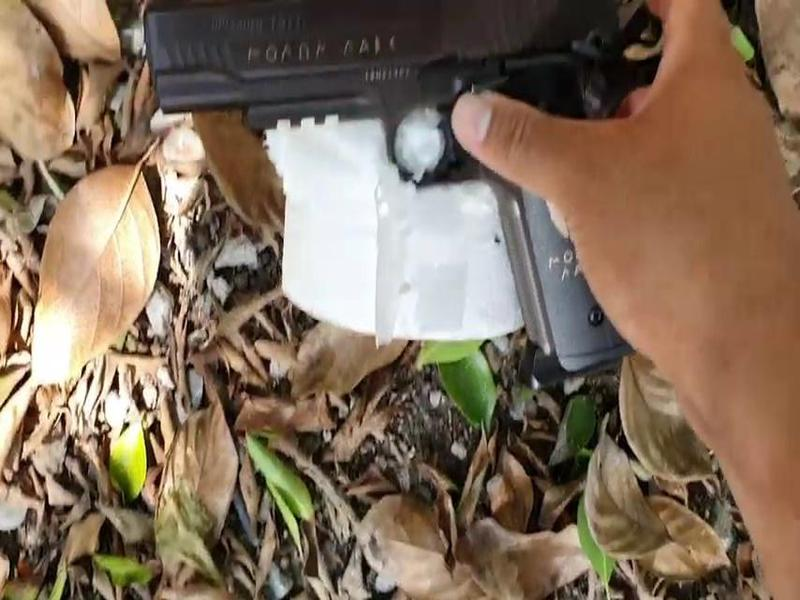Pistola: (130, 1, 674, 383)
